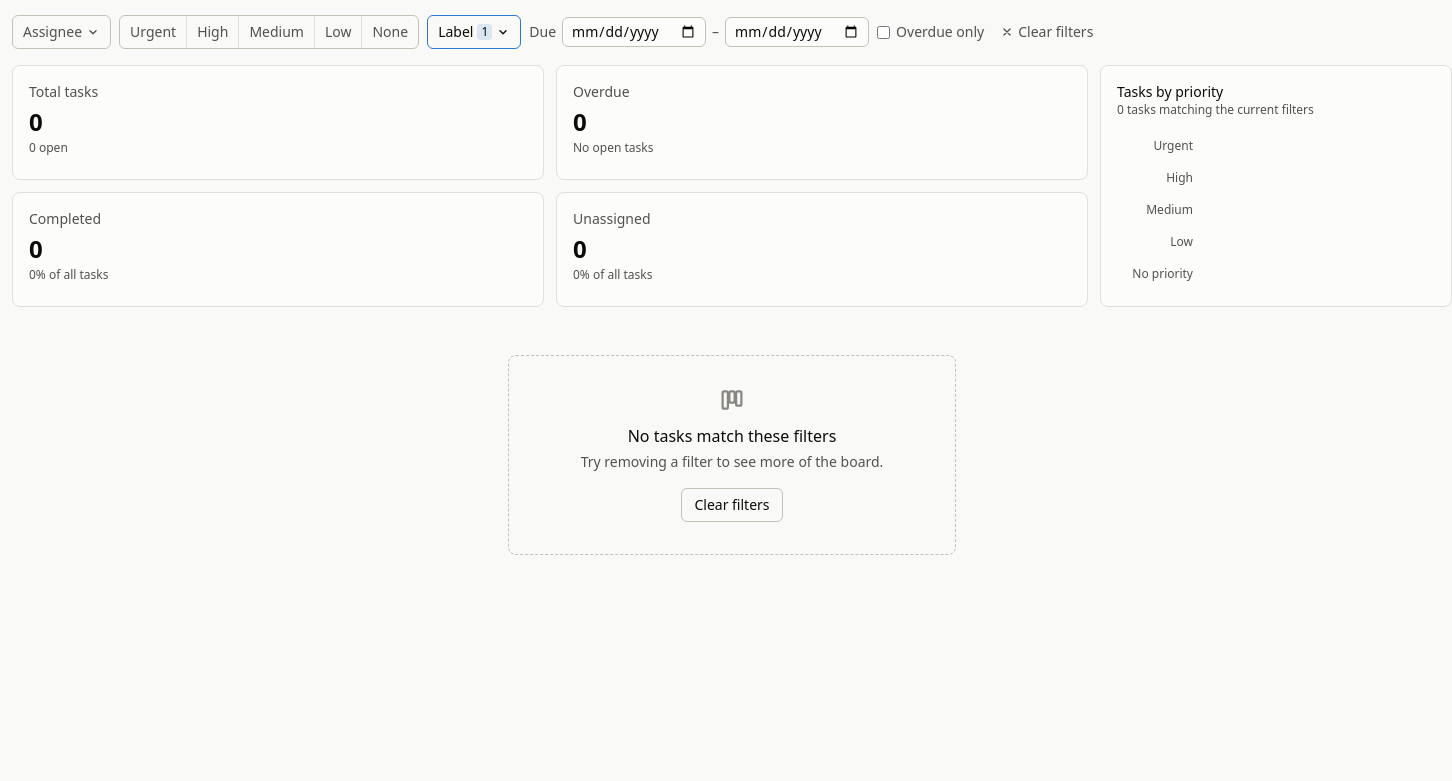
Test: <TaskBoard /> › offers to clear filters that match nothing, and clearing restores the board
Click the button "Clear filters" below "No tasks match these filters": click(732, 505) [681,488,782,522]
(page scrolled)
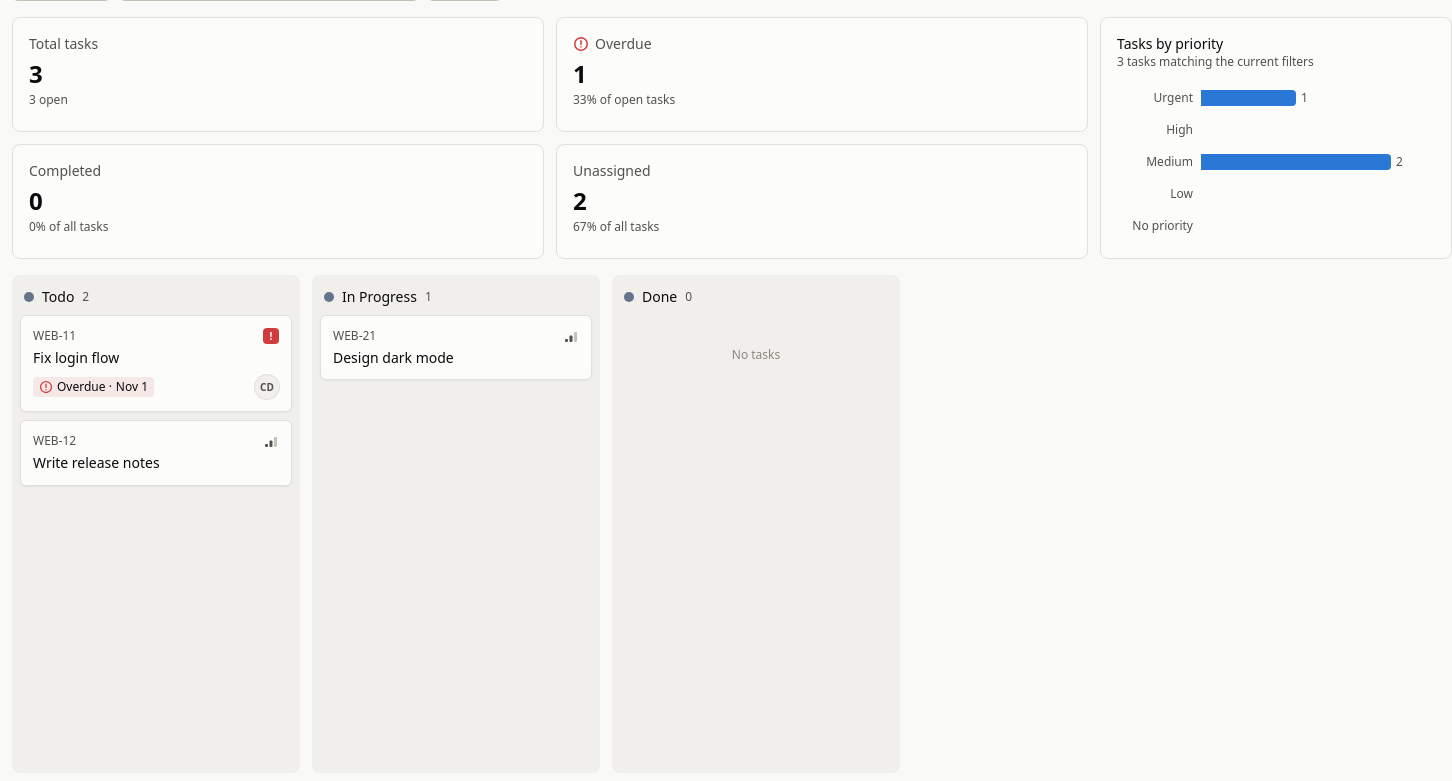
Result: the element "Todo" is shown at [12,275,300,773]
